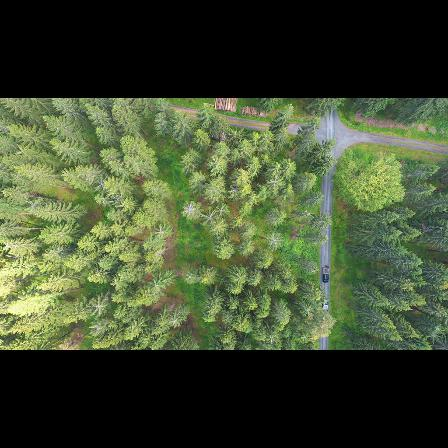Sick: (180, 201, 200, 220), (151, 222, 171, 241), (89, 298, 109, 317), (201, 208, 217, 225), (266, 234, 283, 250), (268, 176, 286, 190), (94, 175, 108, 192), (301, 207, 314, 220), (216, 203, 228, 216)
